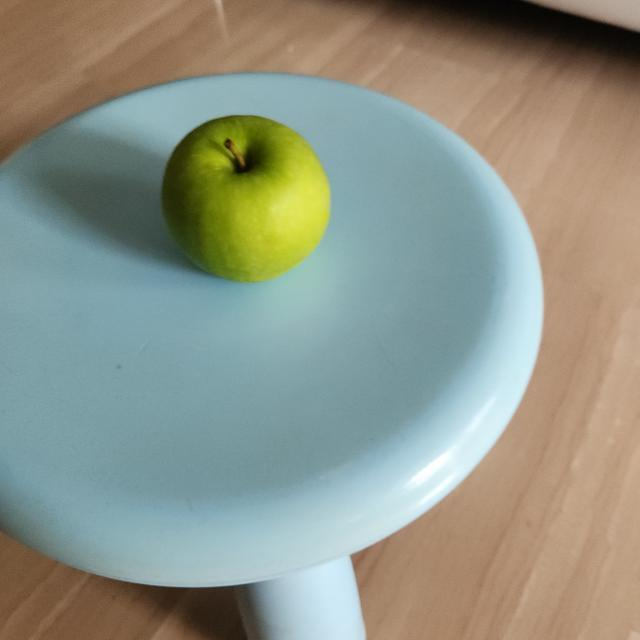apple: (158, 109, 330, 287)
